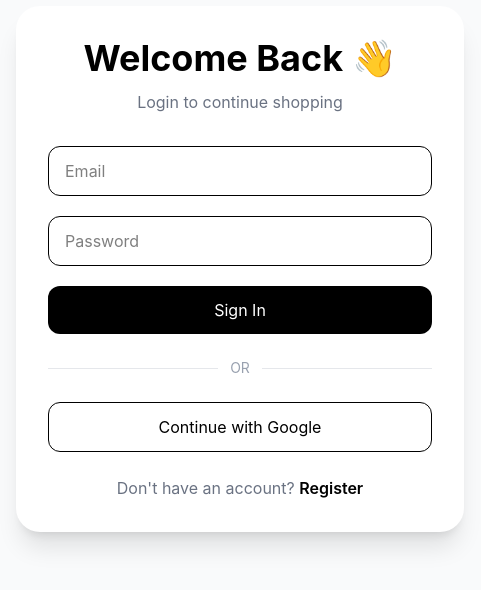
Test: Login › debe mostrar error cuando el email está vacío
The width and height of the screenshot is (481, 590).
Click the button "Sign In": {"x": 240, "y": 310} [48,286,432,334]
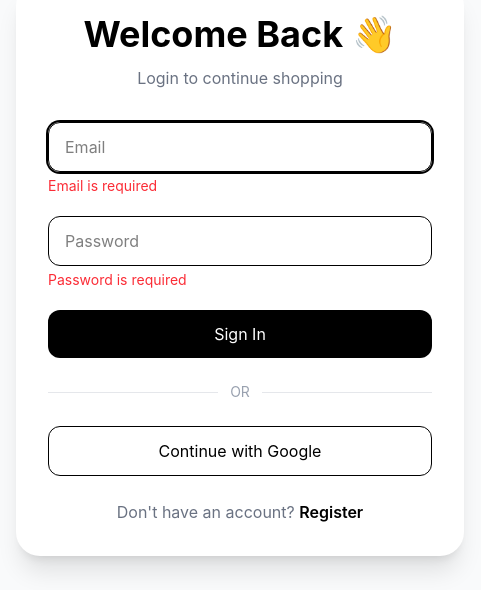
Result: the text "Email is required" is shown at [48,177,157,194]
